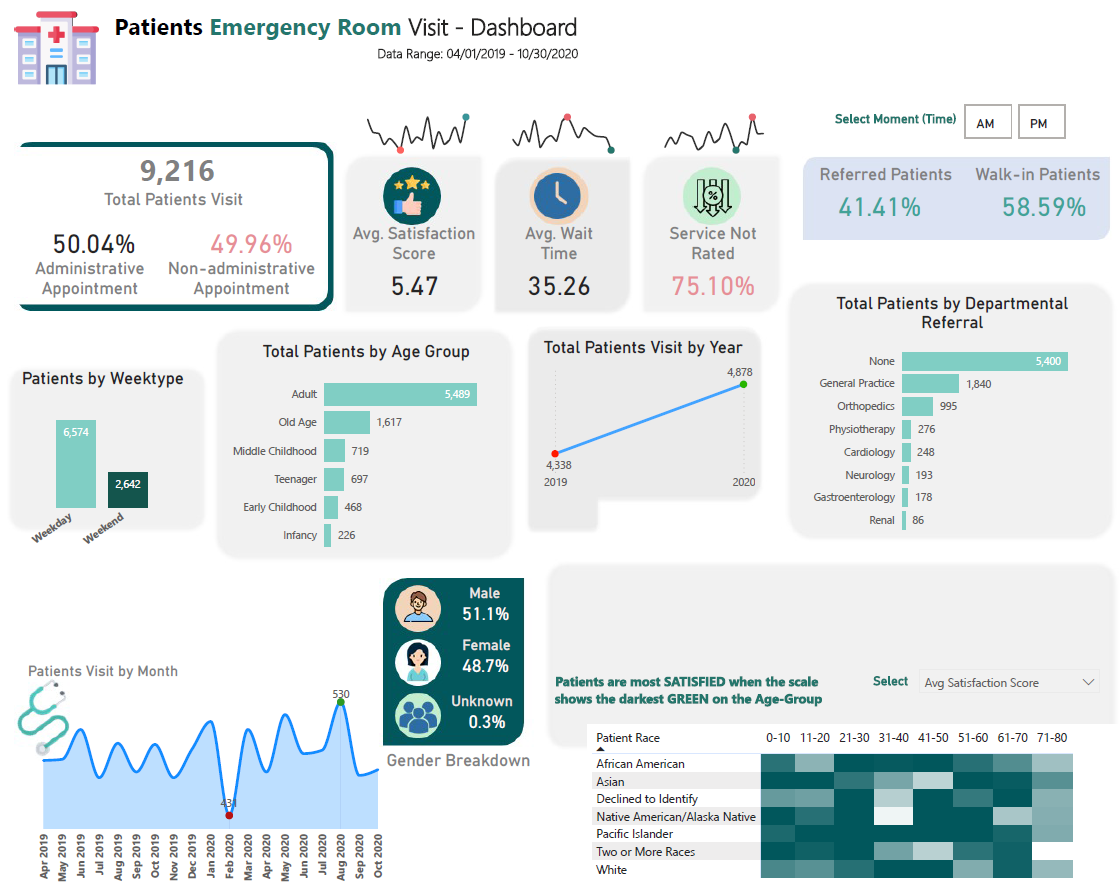

The dashboard page shown, as its layout file describes it:
{"tool":"powerbi","page":{"name":"Page 1","canvas":[1280,1020],"ordinal":0},"visuals":[{"type":"card","fields":{"Values":["Calculations.Total Patients"]},"box":[117.3,164.2,168.9,64.1],"z":0},{"type":"card","fields":{"Values":["Calculations.% Non-administrative Schedule"]},"box":[214.3,244,143.9,68.8],"z":1000},{"type":"card","fields":{"Values":["Calculations.% Administrative Schedule"]},"box":[26.6,236.2,158,84.5],"z":2000},{"type":"card","title":"Avg. Satisfaction Score","fields":{"Values":["Calculations.Avg Satisfaction Score"]},"box":[394.2,256.5,153.3,92.3],"z":3000},{"type":"card","title":"Avg. Wait Time","fields":{"Values":["Calculations.Avg Wait Time"]},"box":[580.3,256.5,111.1,92.3],"z":4000},{"type":"pivotTable","fields":{"Values":["Calculations.Avg Satisfaction Score"],"Rows":["Patient Dataset.patient_race"],"Columns":["Patient Dataset.Age Bucket"]},"box":[667.9,827.4,611.6,192.4],"z":5000},{"type":"slicer","fields":{"Values":["Parameter.Parameter"]},"box":[1035.5,753.9,225.2,56.3],"z":6000},{"type":"barChart","fields":{"Category":["Patient Dataset.Age Group"],"Y":["Calculations.Total Patients"]},"box":[251.8,391,328.5,251.8],"z":7000},{"type":"lineChart","title":"Patients Visit by Month","fields":{"Category":["Date Table.Month-Year"],"Y":["Calculations.Total Patients","Calculations.Max/Min Value Point (Month)"]},"box":[26.6,755.5,416.1,264.3],"z":8000},{"type":"advancedSlicerVisual","fields":{"Values":["Patient Dataset.moment"]},"box":[1091.8,117.3,187.7,48.5],"z":9000},{"type":"lineChart","title":"Total Patients Visit by Year","fields":{"Category":["Date Table.Year"],"Y":["Calculations.Total Patients"]},"box":[613.1,386.3,250.3,183],"z":10000},{"type":"barChart","title":"Total Patients by Departmental Referral","fields":{"Y":["Calculations.Total Patients"],"Category":["Patient Dataset.department_referral"]},"box":[911.9,336.3,341,284.7],"z":11000},{"type":"card","fields":{"Values":["Calculations.% Referred Patients"]},"box":[918.2,194,164.2,84.5],"z":12000},{"type":"card","fields":{"Values":["Calculations.% Unreferred Patients"]},"box":[1112.1,194,148.6,84.5],"z":13000},{"type":"card","fields":{"Values":["Calculations.HitMap Caption"]},"box":[613.1,750.8,339.4,72],"z":14000},{"type":"textbox","box":[26.6,292.5,150.2,62.6],"z":15000},{"type":"textbox","box":[176.7,292.5,195.5,76.6],"z":16000},{"type":"card","title":"Service Not Rated","fields":{"Values":["Calculations.% No ratings"]},"box":[747.7,256.5,125.1,93.8],"z":17000},{"type":"textbox","box":[918.2,184.6,178.3,43.8],"z":18000},{"type":"textbox","box":[1092.2,185.2,176,68],"z":19000},{"type":"columnChart","title":"Patients by Weektype","fields":{"Category":["Date Table.Weektype"],"Y":["Calculations.Total Patients"]},"box":[6.3,420.8,222.1,222.1],"z":20000},{"type":"card","fields":{"Values":["Calculations.% Female Visits"]},"box":[497.4,727.3,109.5,64.1],"z":21000},{"type":"card","fields":{"Values":["Calculations.% Male Visits"]},"box":[503.7,669.5,95.4,62.6],"z":22000},{"type":"card","fields":{"Values":["Calculations.% Non-confirming Gender Visits"]},"box":[502.1,786.8,103.2,72],"z":23000},{"type":"textbox","box":[109.5,212.7,176.7,62.6],"z":24000},{"type":"PBI_CV_25997FEB_F466_44FA_B562_AC4063283C4C","fields":{"measure":["Calculations.Avg Satisfaction Score"],"axis":["Date Table.Month-Year"]},"box":[400.4,118.9,151.7,65.7],"z":25000},{"type":"PBI_CV_25997FEB_F466_44FA_B562_AC4063283C4C","fields":{"measure":["Calculations.Avg Wait Time"],"axis":["Date Table.Month-Year"]},"box":[564.7,118.9,151.7,65.7],"z":26000},{"type":"PBI_CV_25997FEB_F466_44FA_B562_AC4063283C4C","fields":{"measure":["Calculations.% No ratings"],"axis":["Date Table.Month-Year"]},"box":[738.3,118.9,151.7,65.7],"z":27000},{"type":"textbox","box":[428.6,850.9,184.6,37.5],"z":28000},{"type":"textbox","box":[491.1,783.6,114.2,34.4],"z":29000},{"type":"textbox","box":[495.8,721.1,114.2,34.4],"z":30000},{"type":"textbox","box":[494.3,661.6,114.2,34.4],"z":31000},{"type":"textbox","box":[125.1,9.4,550.6,48.5],"z":32000},{"type":"image","box":[10.9,4.7,106.4,104.8],"z":33000},{"type":"textbox","box":[957.3,763.3,111.1,36],"z":34000},{"type":"textbox","box":[939,123.6,158,36],"z":35000},{"type":"textbox","box":[423.9,48.5,292.5,40.7],"z":36000}]}

Visuals, with their boxes in screenshot pixels (x1, y1, x2, y2), scaled from the page's 1280x1020 canvas onto the 1120x889 screenshot:
card - Calculations.Total Patients: box=[103, 143, 250, 199]
card - Calculations.% Non-administrative Schedule: box=[188, 213, 313, 273]
card - Calculations.% Administrative Schedule: box=[23, 206, 162, 280]
"Avg. Satisfaction Score" card: box=[345, 224, 479, 304]
"Avg. Wait Time" card: box=[508, 224, 605, 304]
pivotTable - Calculations.Avg Satisfaction Score x Patient Dataset.patient_race: box=[584, 721, 1119, 888]
slicer - Parameter.Parameter: box=[906, 657, 1103, 706]
barChart - Patient Dataset.Age Group x Calculations.Total Patients: box=[220, 341, 508, 560]
"Patients Visit by Month" lineChart: box=[23, 658, 387, 888]
advancedSlicerVisual - Patient Dataset.moment: box=[955, 102, 1119, 145]
"Total Patients Visit by Year" lineChart: box=[536, 337, 755, 496]
"Total Patients by Departmental Referral" barChart: box=[798, 293, 1096, 541]
card - Calculations.% Referred Patients: box=[803, 169, 947, 243]
card - Calculations.% Unreferred Patients: box=[973, 169, 1103, 243]
card - Calculations.HitMap Caption: box=[536, 654, 833, 717]
textbox: box=[23, 255, 155, 309]
textbox: box=[155, 255, 326, 322]
"Service Not Rated" card: box=[654, 224, 764, 305]
textbox: box=[803, 161, 959, 199]
textbox: box=[956, 161, 1110, 221]
"Patients by Weektype" columnChart: box=[6, 367, 200, 560]
card - Calculations.% Female Visits: box=[435, 634, 531, 690]
card - Calculations.% Male Visits: box=[441, 584, 524, 638]
card - Calculations.% Non-confirming Gender Visits: box=[439, 686, 530, 749]
textbox: box=[96, 185, 250, 240]
PBI_CV_25997FEB_F466_44FA_B562_AC4063283C4C - Calculations.Avg Satisfaction Score x Date Table.Month-Year: box=[350, 104, 483, 161]
PBI_CV_25997FEB_F466_44FA_B562_AC4063283C4C - Calculations.Avg Wait Time x Date Table.Month-Year: box=[494, 104, 627, 161]
PBI_CV_25997FEB_F466_44FA_B562_AC4063283C4C - Calculations.% No ratings x Date Table.Month-Year: box=[646, 104, 779, 161]
textbox: box=[375, 742, 537, 774]
textbox: box=[430, 683, 530, 713]
textbox: box=[434, 628, 534, 658]
textbox: box=[433, 577, 532, 607]
textbox: box=[109, 8, 591, 50]
image: box=[10, 4, 103, 95]
textbox: box=[838, 665, 935, 697]
textbox: box=[822, 108, 960, 139]
textbox: box=[371, 42, 627, 78]
